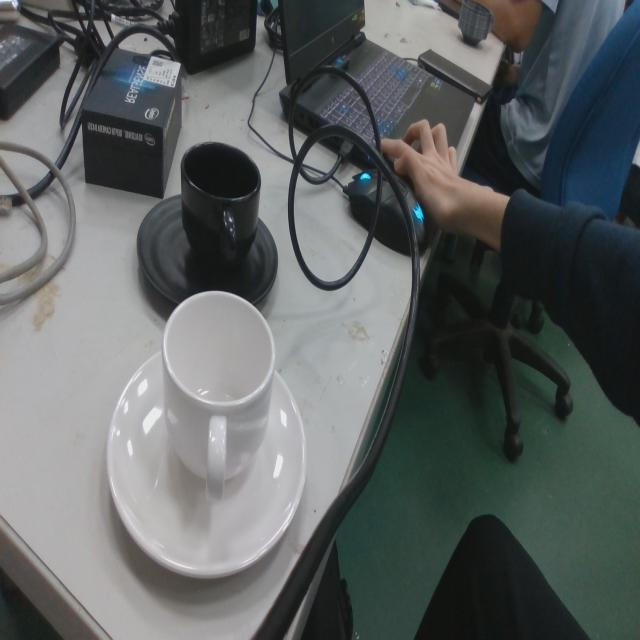black: (135, 136, 280, 308)
white: (104, 287, 309, 585)
